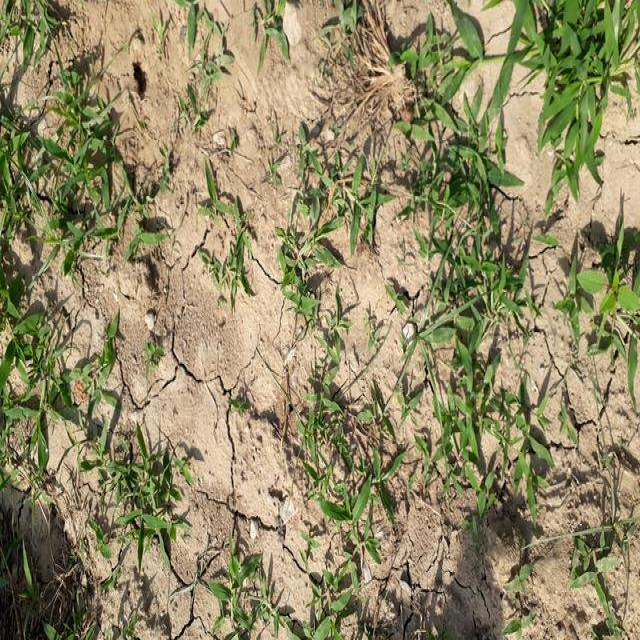weed: (396, 24, 511, 492), (6, 289, 191, 564), (292, 372, 388, 640), (276, 111, 388, 322), (0, 75, 121, 264), (519, 0, 640, 181), (562, 214, 638, 404), (202, 523, 282, 640), (200, 152, 258, 307), (166, 0, 234, 89), (1, 0, 68, 67), (253, 1, 294, 70)
